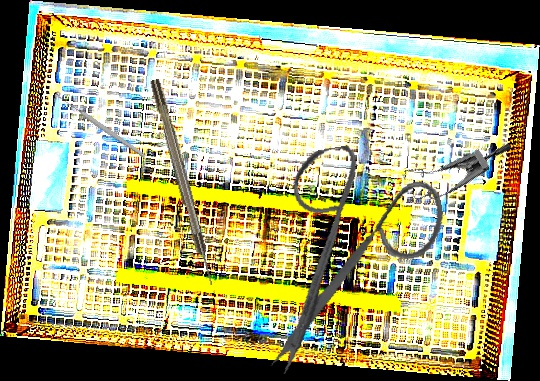Hook Surgical: (149, 78, 217, 287)
Iris Scissors: (234, 131, 466, 376)
Speculum: (393, 106, 513, 223)
Surgical Spoon: (53, 90, 147, 160)
